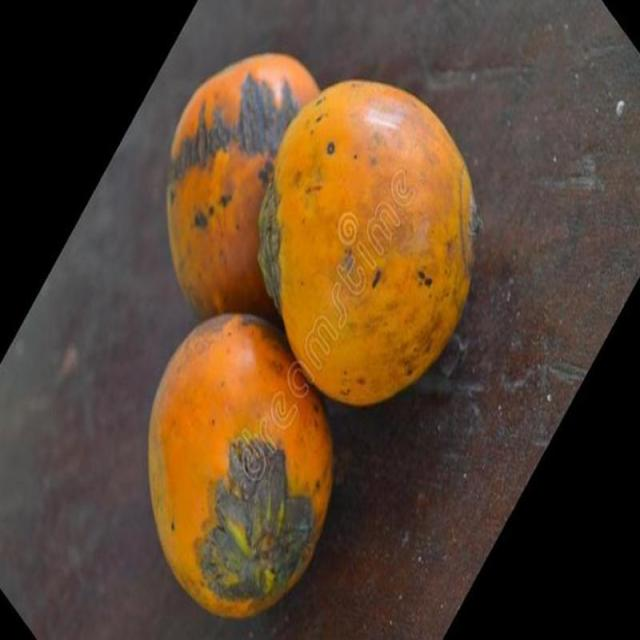good: (258, 79, 477, 410), (146, 314, 334, 621), (165, 54, 321, 322)
